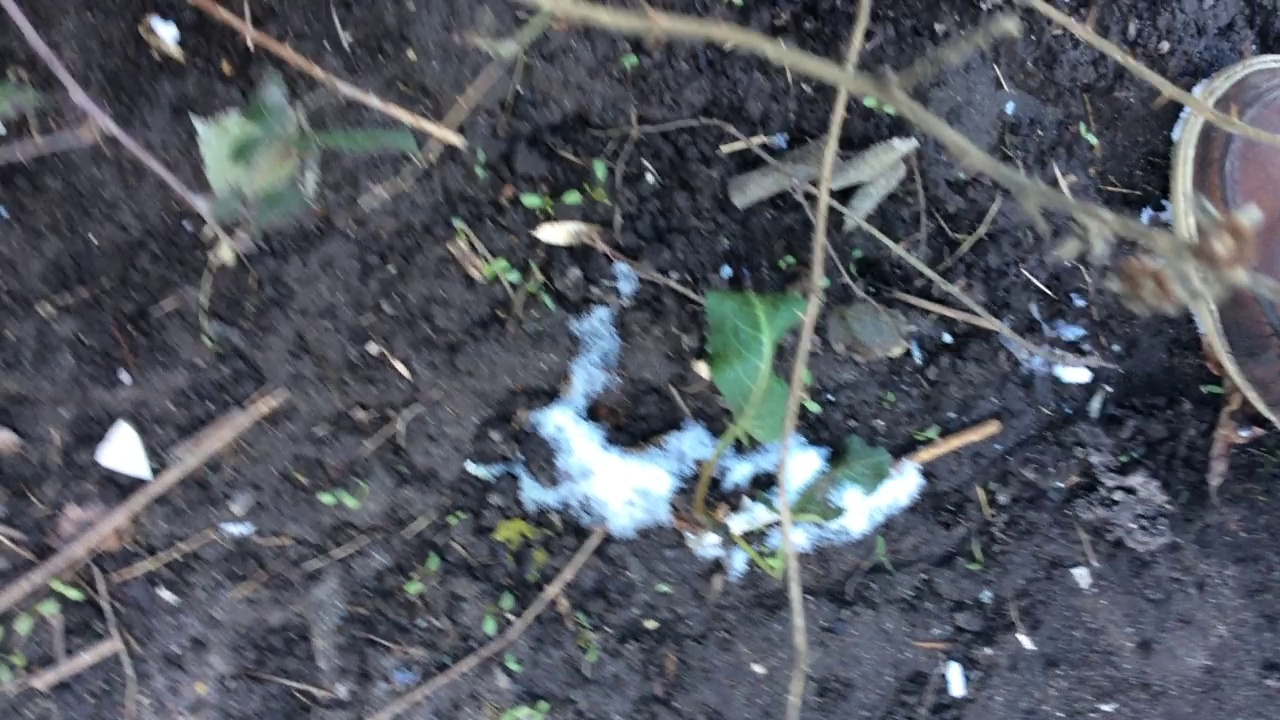root: (679, 495, 755, 552)
rumex: (675, 283, 895, 551)
